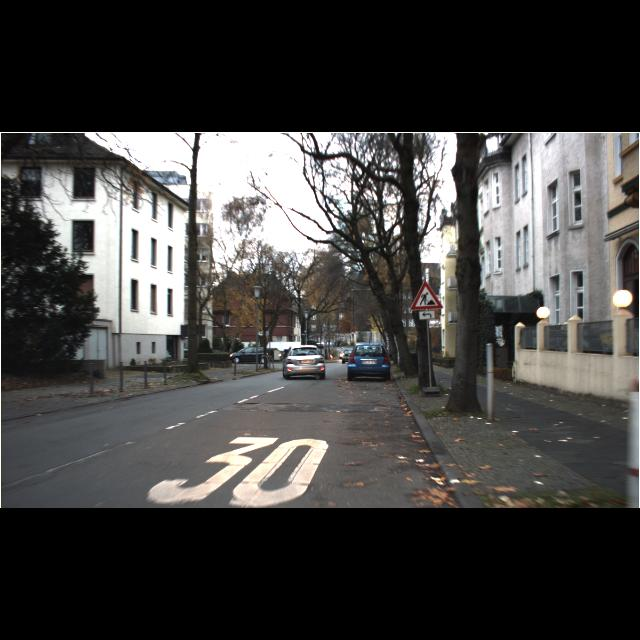danger: (410, 280, 442, 310)
